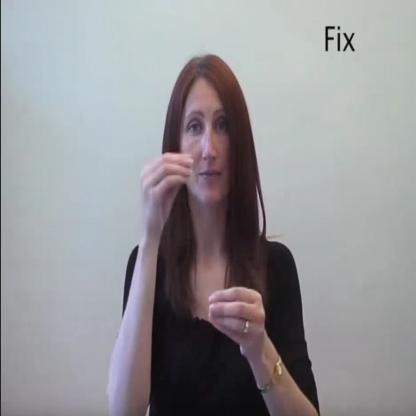Fix: (134, 119, 272, 358)
